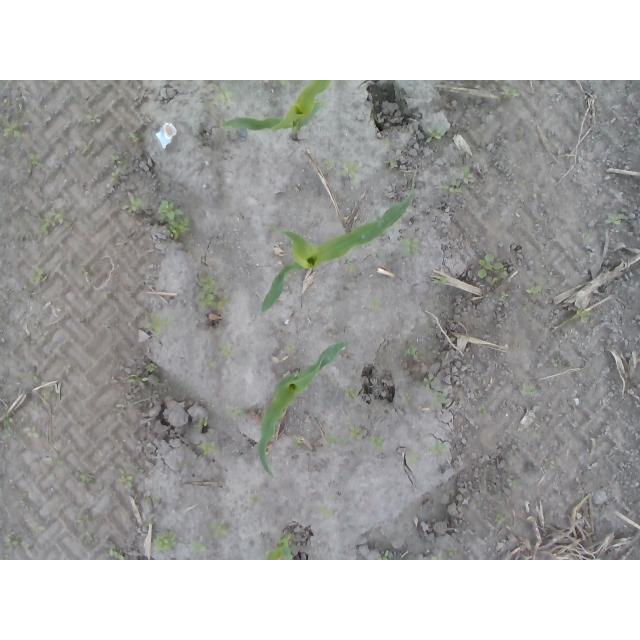Maize: (260, 190, 414, 315), (257, 342, 351, 479), (220, 81, 333, 144), (265, 535, 295, 560)
Weeds: (158, 198, 194, 242), (197, 270, 231, 314), (0, 97, 32, 140), (477, 253, 510, 287), (143, 310, 177, 338), (207, 87, 241, 109), (153, 529, 179, 555), (40, 207, 66, 233), (76, 512, 97, 544), (399, 343, 424, 369), (25, 151, 48, 174), (215, 341, 237, 364), (325, 431, 351, 449), (126, 191, 144, 217), (208, 519, 233, 537), (115, 469, 137, 489), (1, 533, 25, 551), (333, 160, 359, 176), (110, 150, 130, 170), (520, 382, 539, 403), (426, 440, 450, 456), (1, 415, 16, 440), (401, 240, 423, 257), (432, 546, 458, 560), (31, 265, 50, 283), (525, 286, 545, 303), (348, 424, 368, 441), (223, 406, 250, 418), (189, 537, 207, 555), (576, 304, 592, 324), (366, 294, 384, 311), (198, 440, 217, 456), (425, 127, 444, 143), (414, 376, 433, 392), (16, 496, 33, 513), (439, 180, 461, 193), (107, 545, 126, 560), (342, 386, 358, 403), (432, 390, 448, 407), (319, 505, 337, 520), (30, 518, 46, 534), (368, 435, 385, 450), (79, 471, 97, 485), (606, 212, 627, 224), (23, 425, 41, 439), (127, 375, 149, 386), (85, 112, 103, 125), (128, 131, 145, 144), (462, 168, 475, 185), (50, 452, 66, 465), (110, 170, 122, 187), (255, 80, 267, 97), (34, 331, 48, 345), (78, 263, 91, 278), (375, 550, 394, 560), (503, 87, 522, 97), (515, 127, 525, 146), (145, 362, 160, 374), (0, 318, 16, 329), (406, 454, 423, 464), (508, 479, 525, 489), (432, 276, 449, 286), (128, 398, 145, 408), (47, 387, 58, 402), (80, 143, 95, 154), (545, 458, 558, 470), (323, 159, 337, 170), (293, 438, 305, 450), (382, 135, 396, 145), (143, 495, 157, 505), (46, 80, 63, 88), (480, 106, 497, 114), (495, 514, 507, 525), (344, 262, 354, 275), (1, 207, 8, 225), (199, 415, 209, 427), (206, 358, 218, 368), (246, 495, 258, 505), (386, 160, 399, 169), (31, 371, 42, 381), (319, 99, 329, 109), (402, 392, 413, 401), (479, 406, 487, 418), (431, 350, 441, 359), (583, 233, 593, 242), (328, 329, 337, 339), (272, 222, 281, 232), (278, 81, 290, 88), (288, 344, 297, 353), (189, 426, 199, 434), (320, 268, 336, 273), (501, 290, 510, 298), (374, 251, 386, 257), (145, 521, 150, 528)
